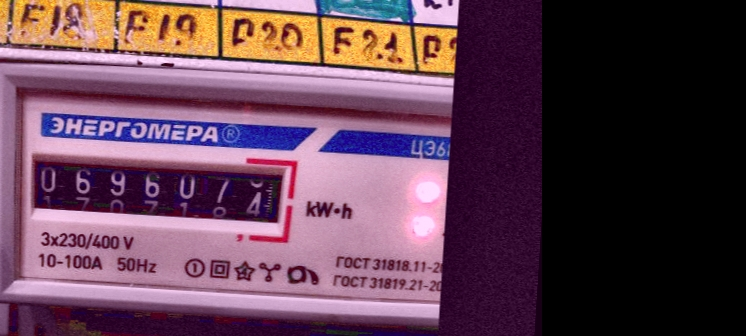0: (177, 170, 198, 201), (38, 164, 58, 193)
4: (245, 189, 263, 218)
6: (142, 170, 163, 200), (73, 165, 94, 194)
7: (213, 174, 231, 205)
9: (108, 169, 127, 198)
screen: (14, 136, 304, 243)
